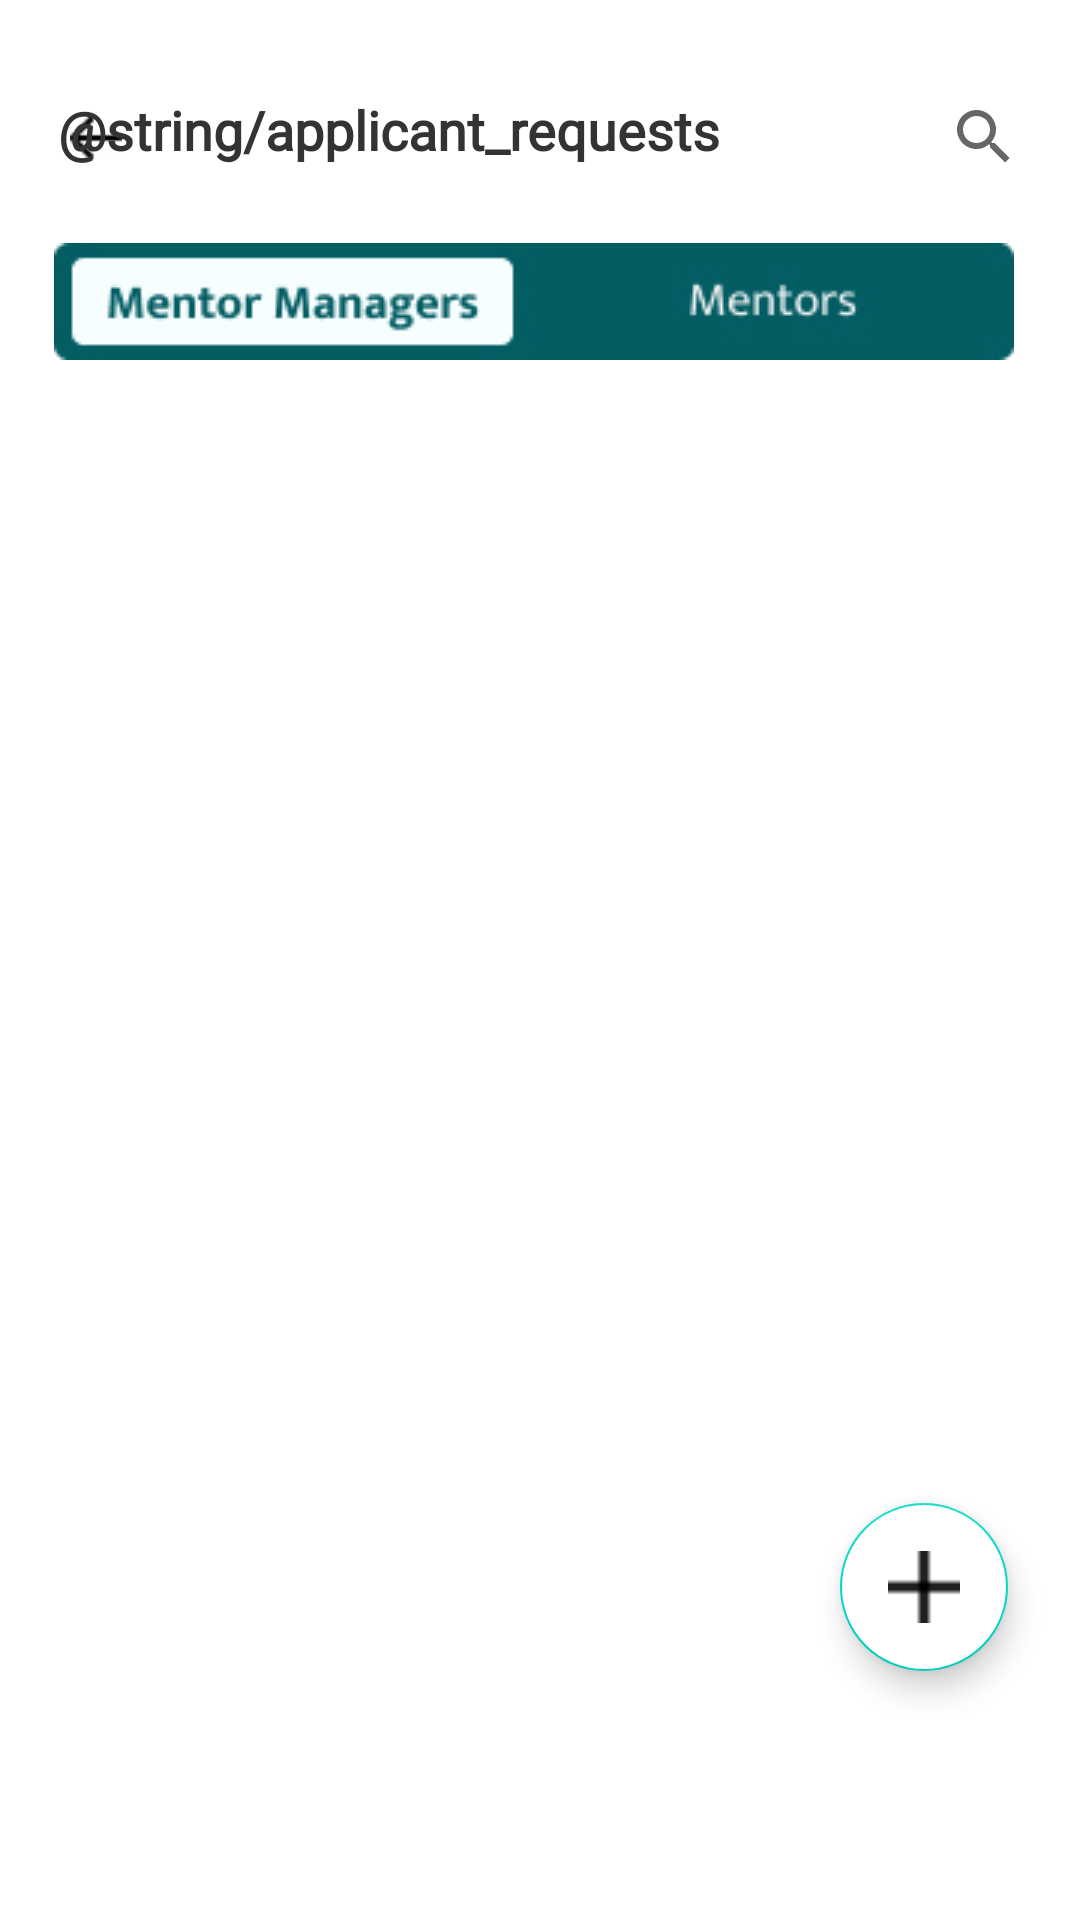

Icon bounding boxes for this 1080×1920 phone screenshot, format (x1, y1, x2, y2):
plus: (840, 1503, 1008, 1671)
